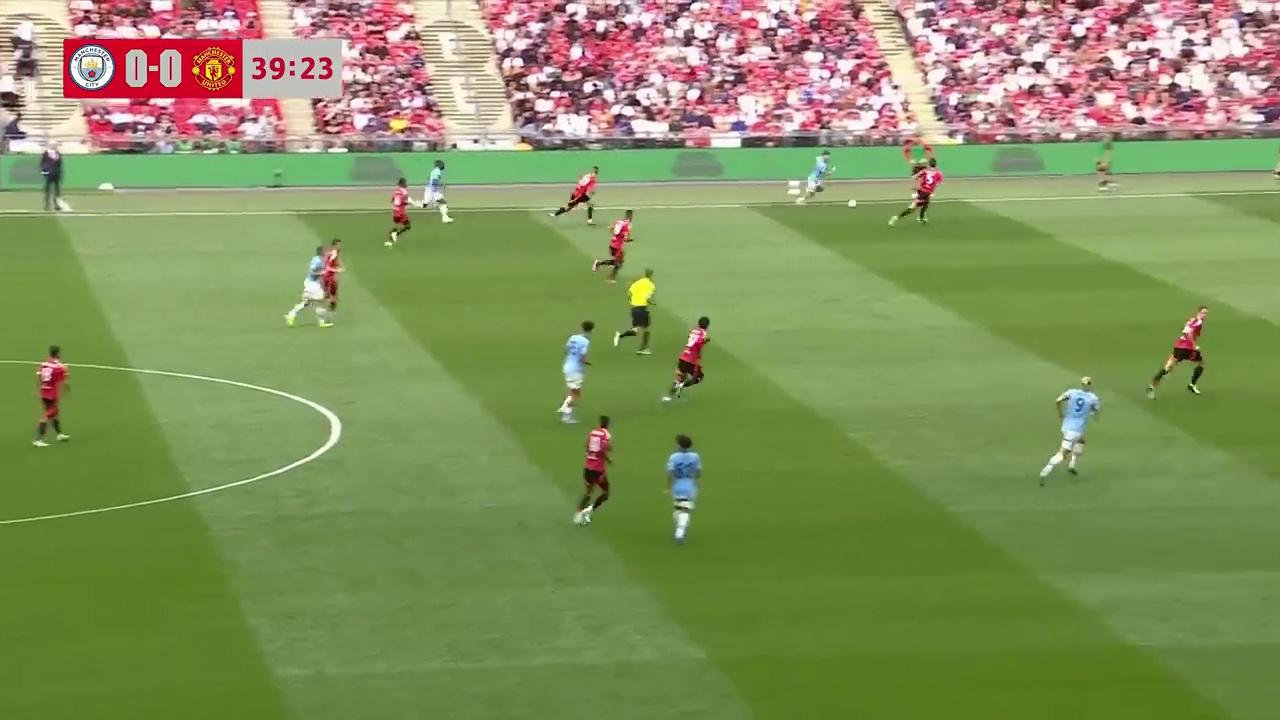ball: (845, 196, 858, 209)
player: (1146, 305, 1207, 401), (1043, 376, 1100, 478), (573, 415, 614, 525), (661, 316, 710, 405), (664, 433, 702, 544), (556, 319, 594, 424), (32, 345, 71, 447), (285, 253, 330, 328), (889, 163, 943, 225), (591, 211, 633, 284), (553, 168, 598, 224), (906, 162, 943, 223), (421, 159, 452, 223), (384, 180, 412, 247), (799, 151, 833, 203), (320, 239, 343, 314)
referee: (614, 269, 656, 355)
